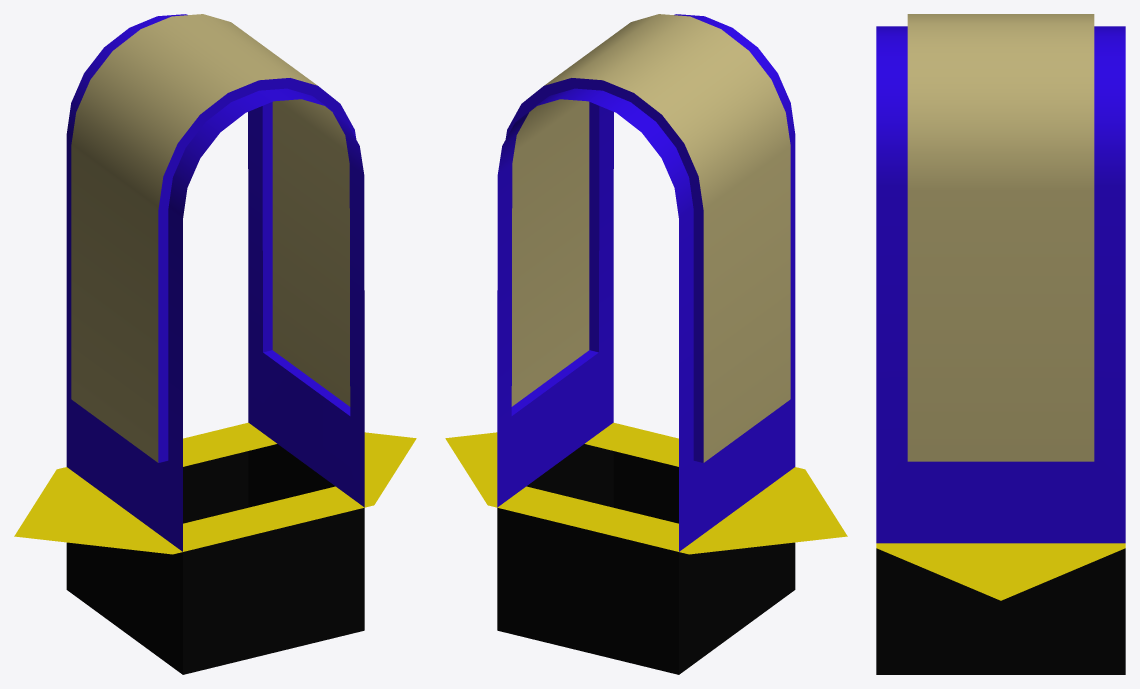
Rendered from StraightV5Spikes.fbx.
3 views of the same model, side by side, from view 1: azimuth 30°, elevation 25°; view 2: azimuth 150°, elevation 25°; view 3: azimuth 270°, elevation 25° (orthographic). The views are drawn at different scales.
Parts seen in each view (by area): view 1: StraightV5Spikes; view 2: StraightV5Spikes; view 3: StraightV5Spikes.
Boxes of the visible parts, x1=… form: StraightV5Spikes: x1=14, y1=14, x2=416, y2=674; StraightV5Spikes: x1=445, y1=14, x2=847, y2=674; StraightV5Spikes: x1=876, y1=14, x2=1125, y2=674.
Size of the model in its own units: 240 by 320 by 120.
